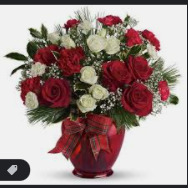RedRose: (100, 55, 129, 94), (120, 85, 154, 118), (40, 78, 69, 111), (13, 74, 41, 105), (129, 53, 151, 91), (58, 47, 85, 77), (35, 43, 56, 69), (143, 28, 162, 55), (97, 10, 125, 27), (154, 79, 170, 106), (122, 25, 139, 50), (65, 16, 79, 30)
